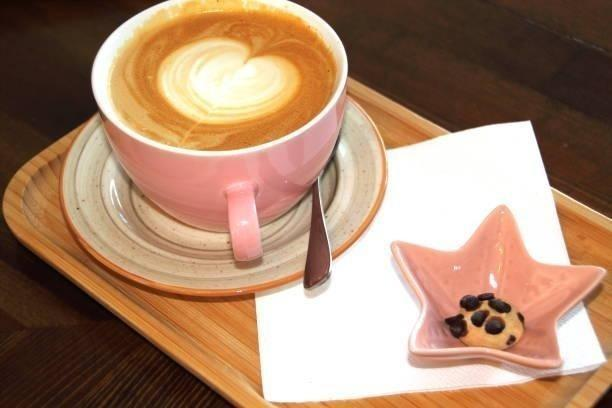cup-handle: (90, 0, 350, 264)
